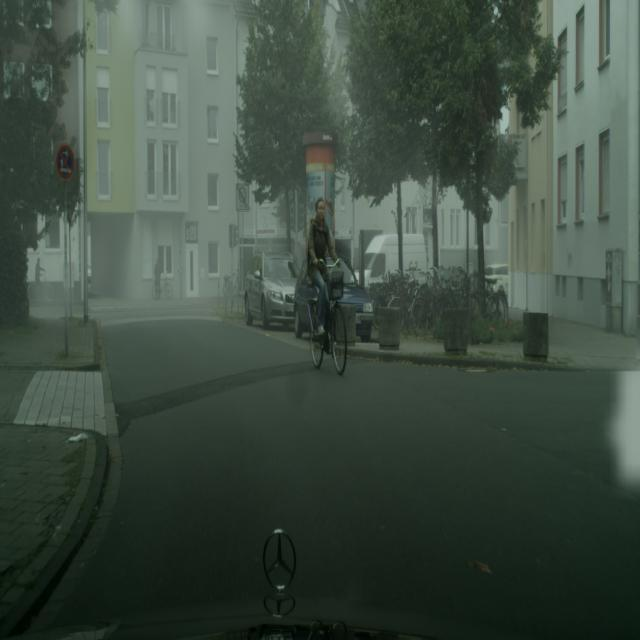bicycle: (361, 232, 428, 291)
bus: (294, 254, 374, 342), (243, 251, 300, 329), (335, 257, 374, 341)
car: (309, 195, 348, 376), (152, 276, 172, 300)
person: (153, 257, 162, 299)
